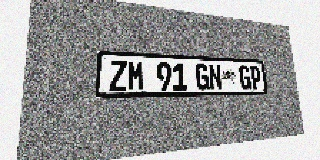1: (172, 62, 187, 90)
9: (156, 62, 172, 91)
G: (195, 63, 210, 90), (239, 65, 252, 90)
M: (128, 61, 144, 91)
N: (208, 64, 222, 90)
P: (249, 66, 262, 90)
Z: (109, 60, 127, 91)
